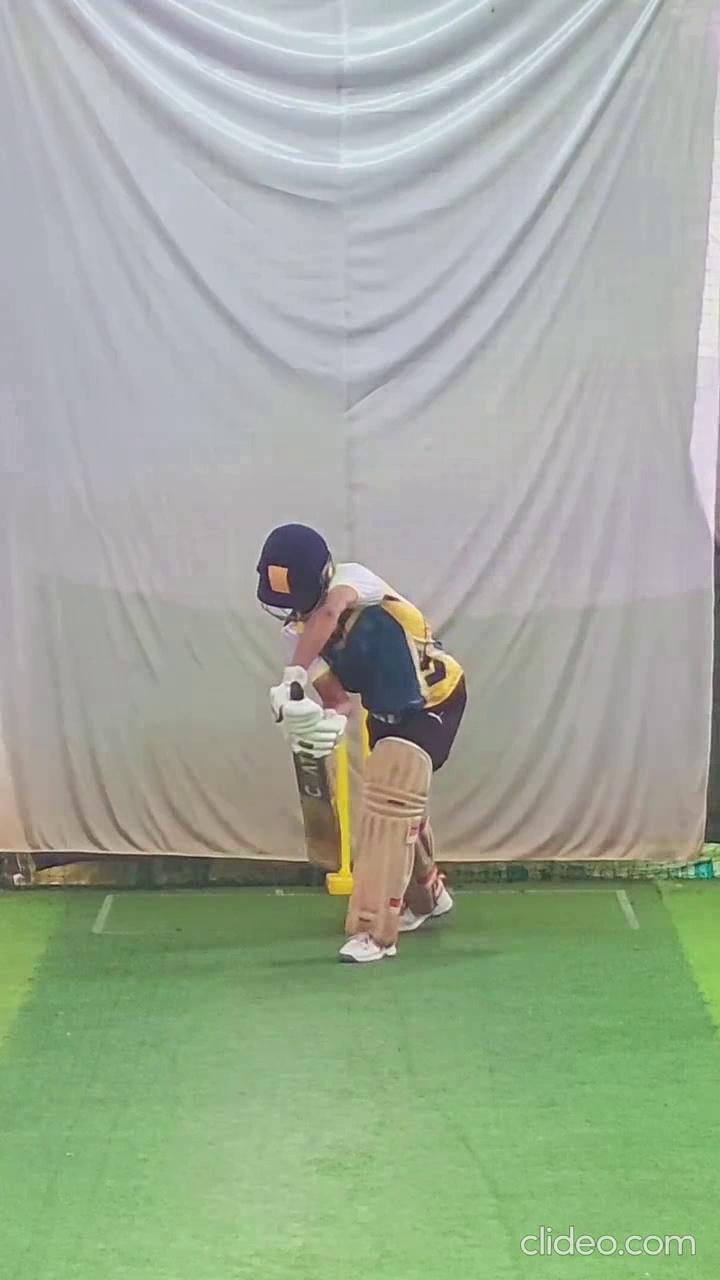bat: (291, 746, 345, 877)
